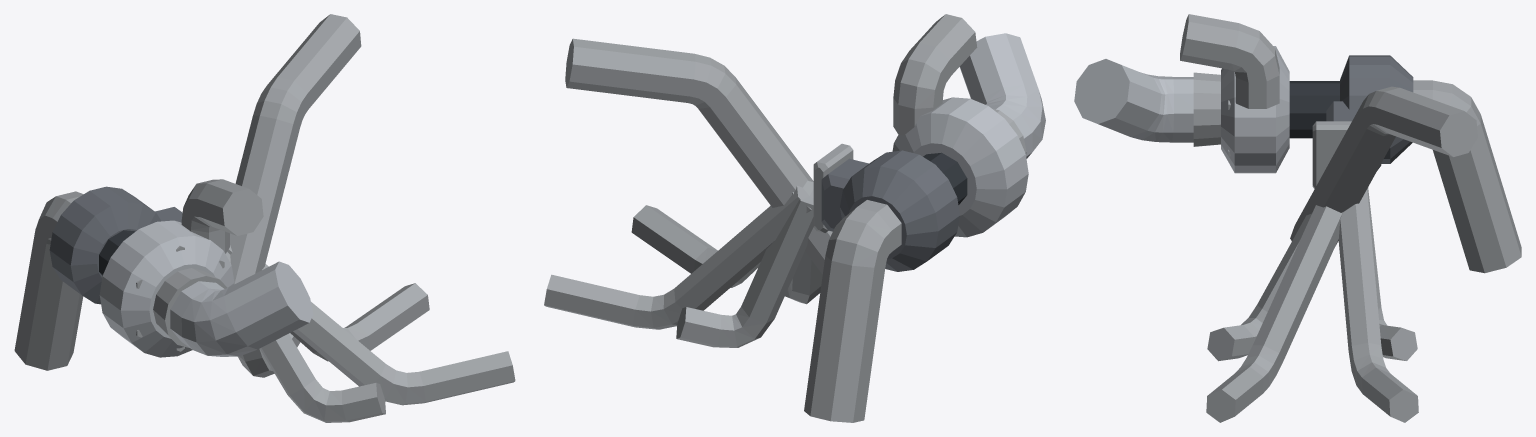
The model's file is kaze_gt_turbo_kit.glb.
3 views of the same model, side by side, from view 1: azimuth 30°, elevation 25°; view 2: azimuth 150°, elevation 25°; view 3: azimuth 270°, elevation 25° (orthographic). The views are drawn at different scales.
Parts seen in each view (by area): view 1: model; view 2: model; view 3: model.
Part boxes in pixels (x1,y1,x2,y2): model: [14, 14, 515, 422]; model: [544, 14, 1045, 422]; model: [1074, 14, 1521, 422].
Bounding box in the file's own units: 0.4786 × 0.3583 × 0.4888.
Materials: 2 (1 with a texture image).
